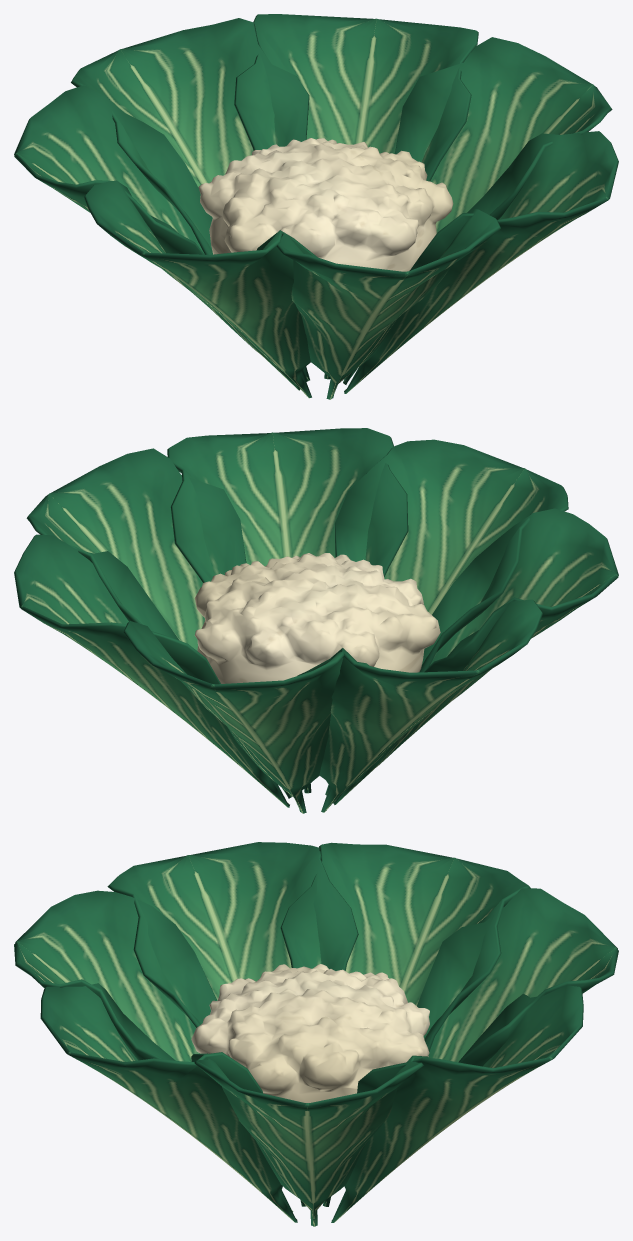
Rendered from NP_Cauliflower_HeadForming.fbx.
3 views of the same model, one above another, from view 1: azimuth 30°, elevation 25°; view 2: azimuth 150°, elevation 25°; view 3: azimuth 270°, elevation 25° (orthographic).
Visible parts, largest first — view 1: NP_Cauliflower_HeadForming; view 2: NP_Cauliflower_HeadForming; view 3: NP_Cauliflower_HeadForming.
Part boxes in pixels (box(x1,y1,x2,y2)): NP_Cauliflower_HeadForming: box(14, 14, 618, 399); NP_Cauliflower_HeadForming: box(14, 428, 618, 813); NP_Cauliflower_HeadForming: box(14, 842, 618, 1226).
Bounding box in the file's own units: 64.17 × 30.75 × 64.28.
